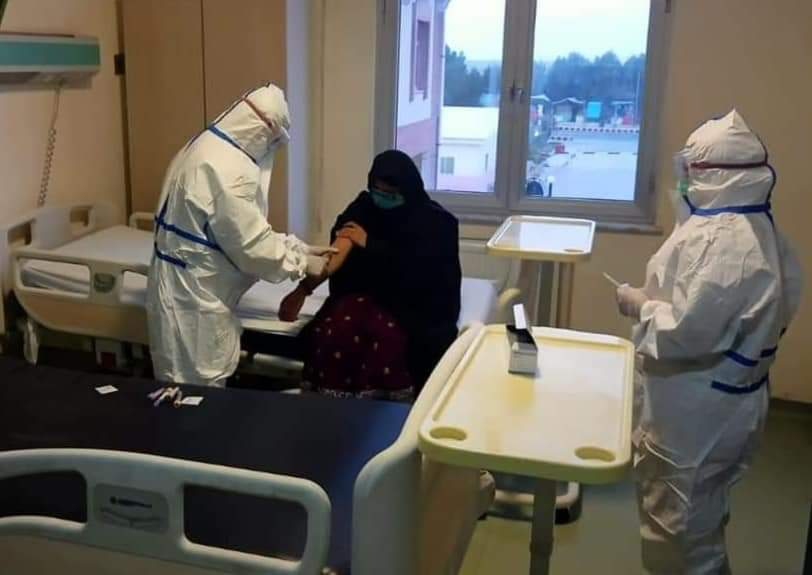Coverall: (624, 106, 788, 565), (149, 82, 305, 388)
Gloves: (610, 275, 664, 329), (295, 252, 331, 278), (305, 243, 339, 256)
Goggles: (673, 150, 696, 182), (268, 125, 295, 143)
with_mask: (670, 189, 696, 221)
